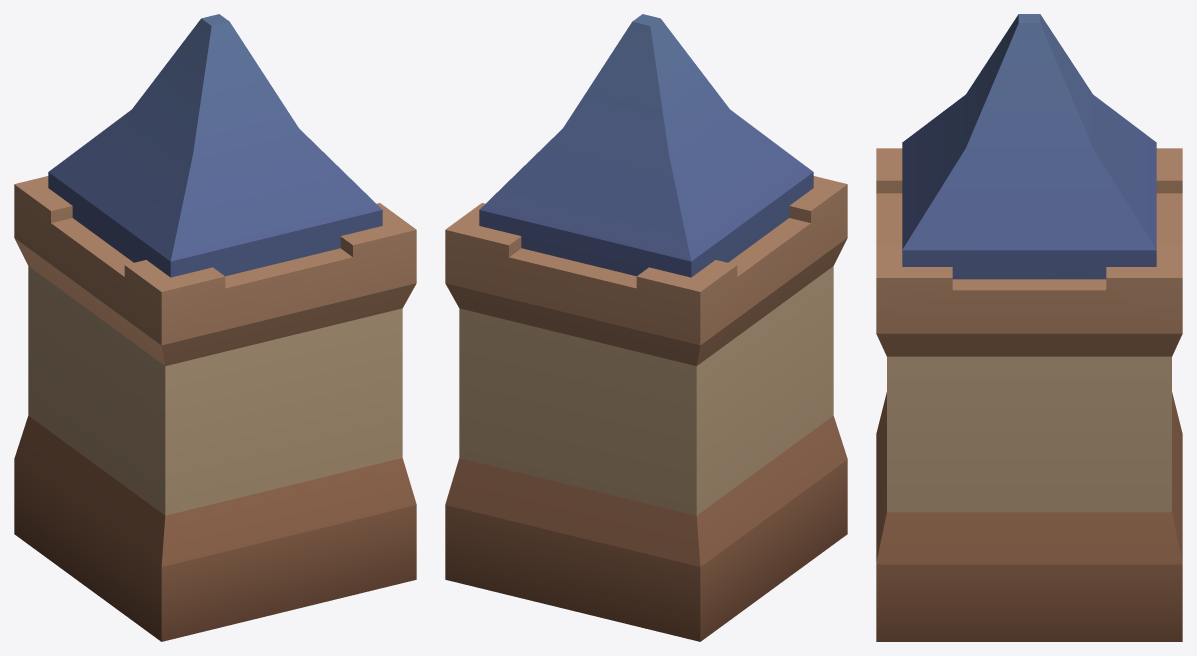
Rendered from tower-square-roof.glb.
3 views of the same model, side by side, from view 1: azimuth 30°, elevation 25°; view 2: azimuth 150°, elevation 25°; view 3: azimuth 270°, elevation 25° (orthographic). The views are drawn at different scales.
Visible parts, largest first — view 1: tower-square-roof; view 2: tower-square-roof; view 3: tower-square-roof.
Part boxes in pixels (x1,y1,x2,y2): tower-square-roof: [14, 14, 416, 641]; tower-square-roof: [445, 14, 847, 641]; tower-square-roof: [876, 14, 1182, 641].
Size of the model in its own units: 1.79 by 3.6 by 1.79.
